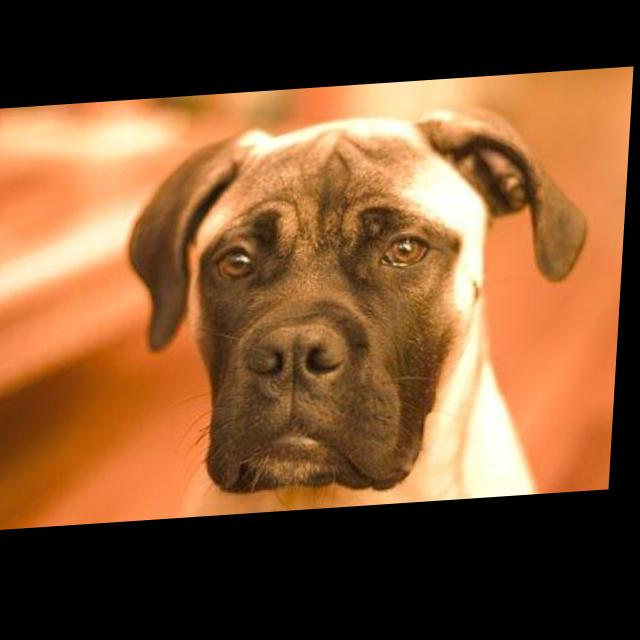bullmastiff: (119, 102, 600, 525)
